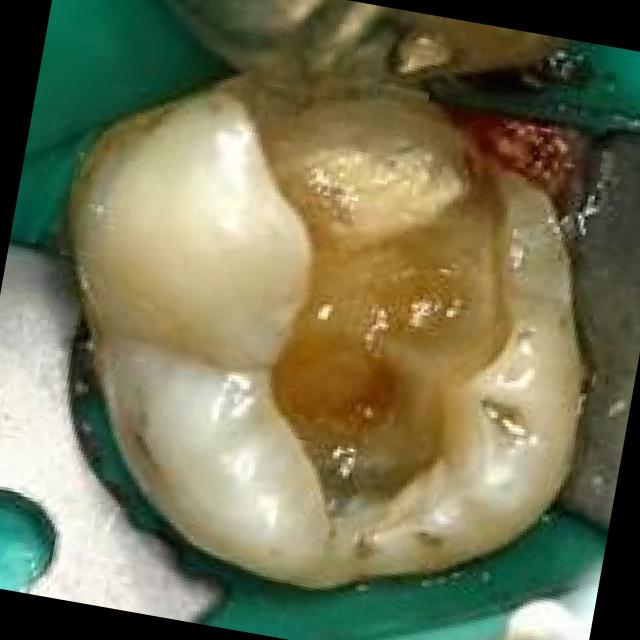Caries: (314, 457, 434, 501)
Cavity: (238, 80, 510, 569)
Tooth: (62, 72, 584, 592)
